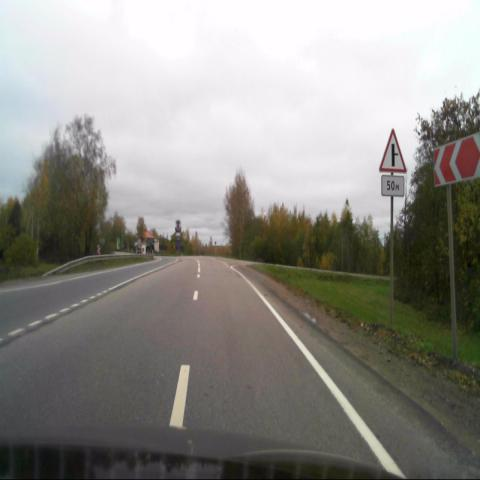8_1_1: (380, 175, 404, 196)
